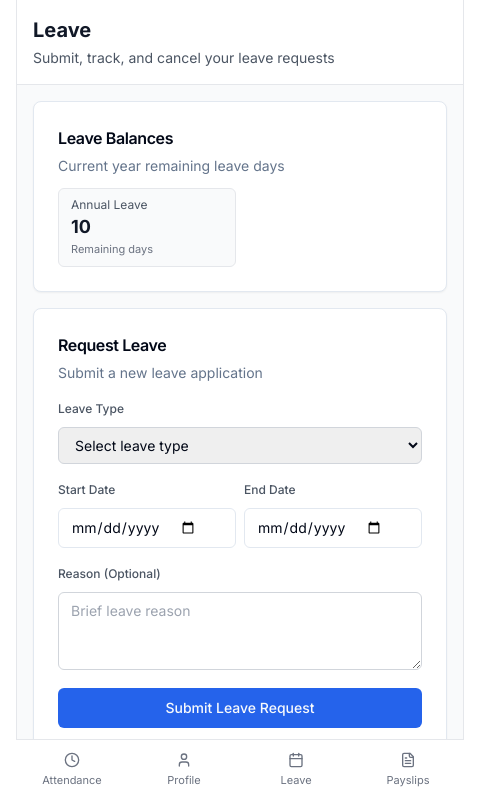
Scenario: MobileLeavePage › shows validation error when creating request with missing fields
The image size is (481, 800).
Step 1. Click the button "Submit Leave Request" → (240, 708), box [58,688,422,728]
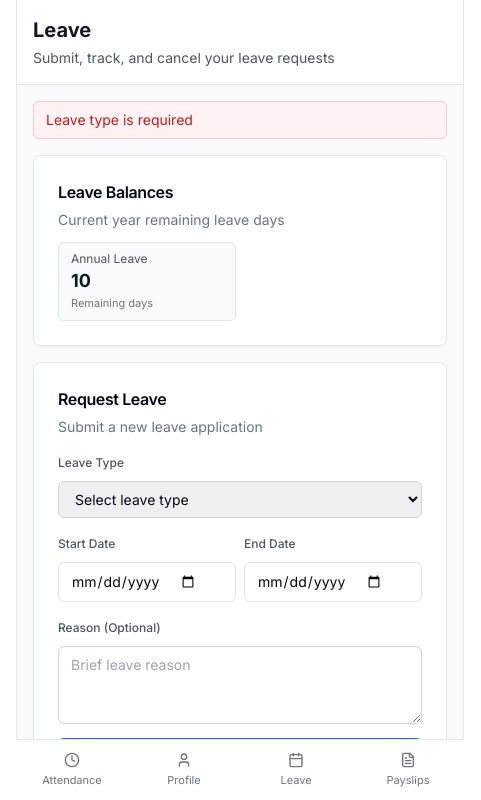
expect the text "Leave type is required" is shown: met, box [33,101,447,139]
